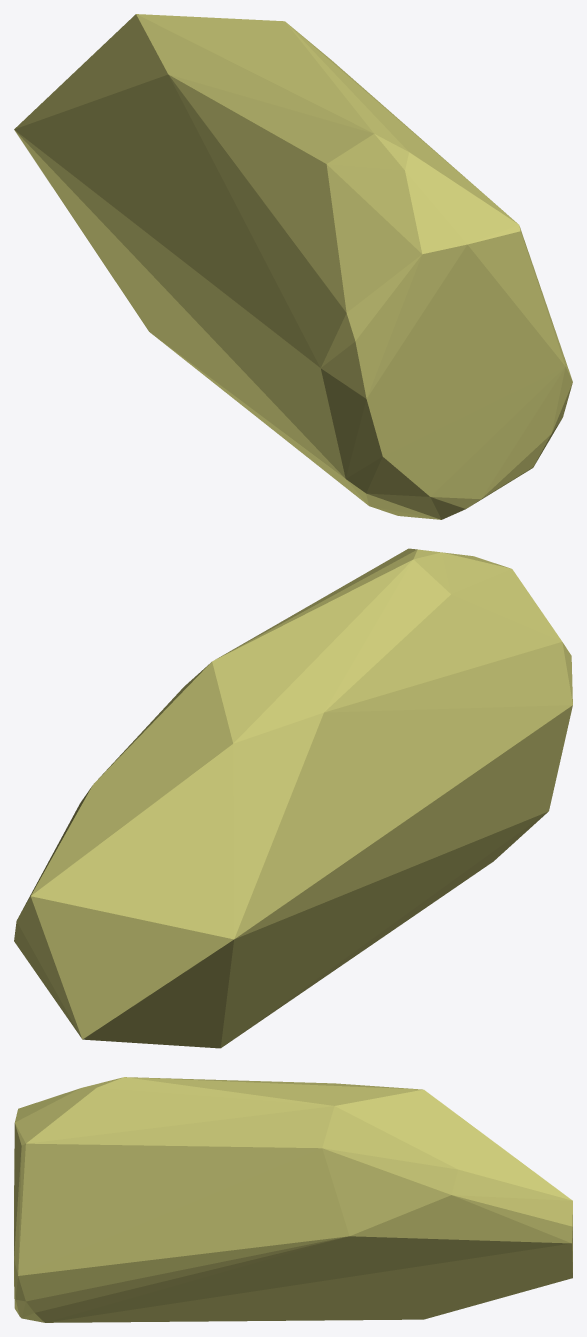
The model's file is food_processed_ketchup_d01.glb.
3 views of the same model, one above another, from view 1: azimuth 30°, elevation 25°; view 2: azimuth 150°, elevation 25°; view 3: azimuth 270°, elevation 25° (orthographic). The views are drawn at different scales.
Parts seen in each view (by area): view 1: geometry_0; view 2: geometry_0; view 3: geometry_0.
Part boxes in pixels (left/top/right/bottom): geometry_0: left=14, top=14, right=572, bottom=519; geometry_0: left=14, top=548, right=572, bottom=1048; geometry_0: left=14, top=1077, right=572, bottom=1322.
Size of the model in its own units: 0.1684 by 0.2337 by 0.48.
